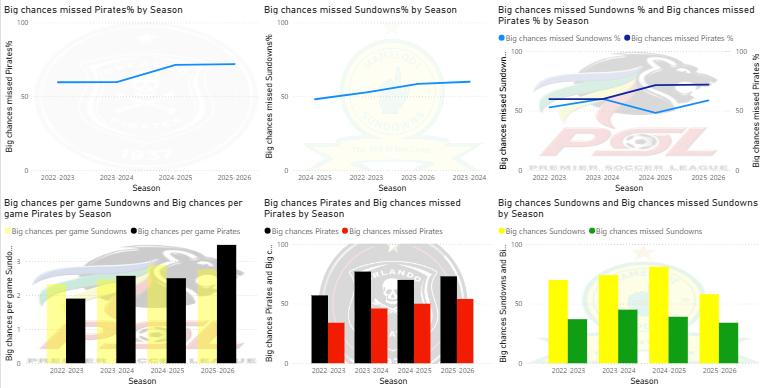

The page's visual inventory and layout, read from the dashboard file:
{"tool":"powerbi","page":{"name":"Page 5","canvas":[1280,720],"ordinal":4},"visuals":[{"type":"lineChart","fields":{"Category":["Untitled spreadsheet - Sheet1.Season "],"Y":["Sum(Untitled spreadsheet - Sheet1.Big chances missed %)"]},"box":[0,71.6,436.7,324.2],"z":0},{"type":"lineChart","fields":{"Category":["Mamelodi Sundowns Stats.Season "],"Y":["Sum(Mamelodi Sundowns Stats.Big chances missed %)"]},"box":[436.7,72.2,393.1,324.2],"z":1},{"type":"lineChart","fields":{"Category":["Mamelodi Sundowns Stats.Season "],"Y":["Sum(Mamelodi Sundowns Stats.Big chances missed %)"],"Y2":["Sum(Orlando Pirates Stats.Big chances missed %)"]},"box":[829.8,72.2,450.2,324.2],"z":2},{"type":"clusteredColumnChart","fields":{"Category":["Mamelodi Sundowns Stats.Season "],"Y":["Sum(Mamelodi Sundowns Stats.Big chances per game)","Sum(Orlando Pirates Stats.Big chances per game)"]},"box":[0,396.4,436.7,324.2],"z":3},{"type":"lineClusteredColumnComboChart","fields":{"Category":["Orlando Pirates Stats.Season "],"Y":["Sum(Orlando Pirates Stats.Big chances)","Sum(Orlando Pirates Stats.Big chances missed)"]},"box":[436.7,396.4,393.1,324.2],"z":4},{"type":"lineClusteredColumnComboChart","fields":{"Category":["Mamelodi Sundowns Stats.Season "],"Y":["Sum(Mamelodi Sundowns Stats.Big chances)","Sum(Mamelodi Sundowns Stats.Big chances missed)"]},"box":[829.8,396.4,450.2,324.2],"z":5}]}

Visuals, with their boxes on the page's 1280x720 design canvas (x1, y1, x2, y2). These are canvas units, not pixel positions in the 762x388 screenshot, which may show the page scaled, cropped or inside an application window:
lineChart - Untitled spreadsheet - Sheet1.Season  x Sum(Untitled spreadsheet - Sheet1.Big chances missed %): locate(0, 72, 437, 396)
lineChart - Mamelodi Sundowns Stats.Season  x Sum(Mamelodi Sundowns Stats.Big chances missed %): locate(437, 72, 830, 396)
lineChart - Mamelodi Sundowns Stats.Season  x Sum(Mamelodi Sundowns Stats.Big chances missed %): locate(830, 72, 1280, 396)
clusteredColumnChart - Mamelodi Sundowns Stats.Season  x Sum(Mamelodi Sundowns Stats.Big chances per game): locate(0, 396, 437, 721)
lineClusteredColumnComboChart - Orlando Pirates Stats.Season  x Sum(Orlando Pirates Stats.Big chances): locate(437, 396, 830, 721)
lineClusteredColumnComboChart - Mamelodi Sundowns Stats.Season  x Sum(Mamelodi Sundowns Stats.Big chances): locate(830, 396, 1280, 721)
